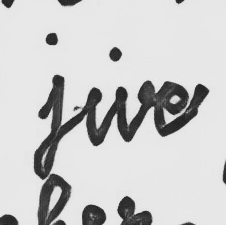e: (153, 78, 200, 141)
i: (79, 84, 107, 150)
j: (30, 70, 68, 183)
v: (112, 77, 152, 143)
